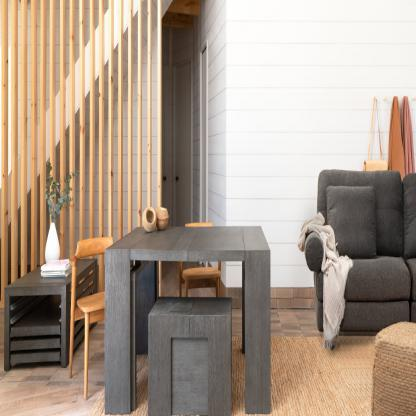table: (102, 218, 273, 416), (2, 252, 100, 378)
